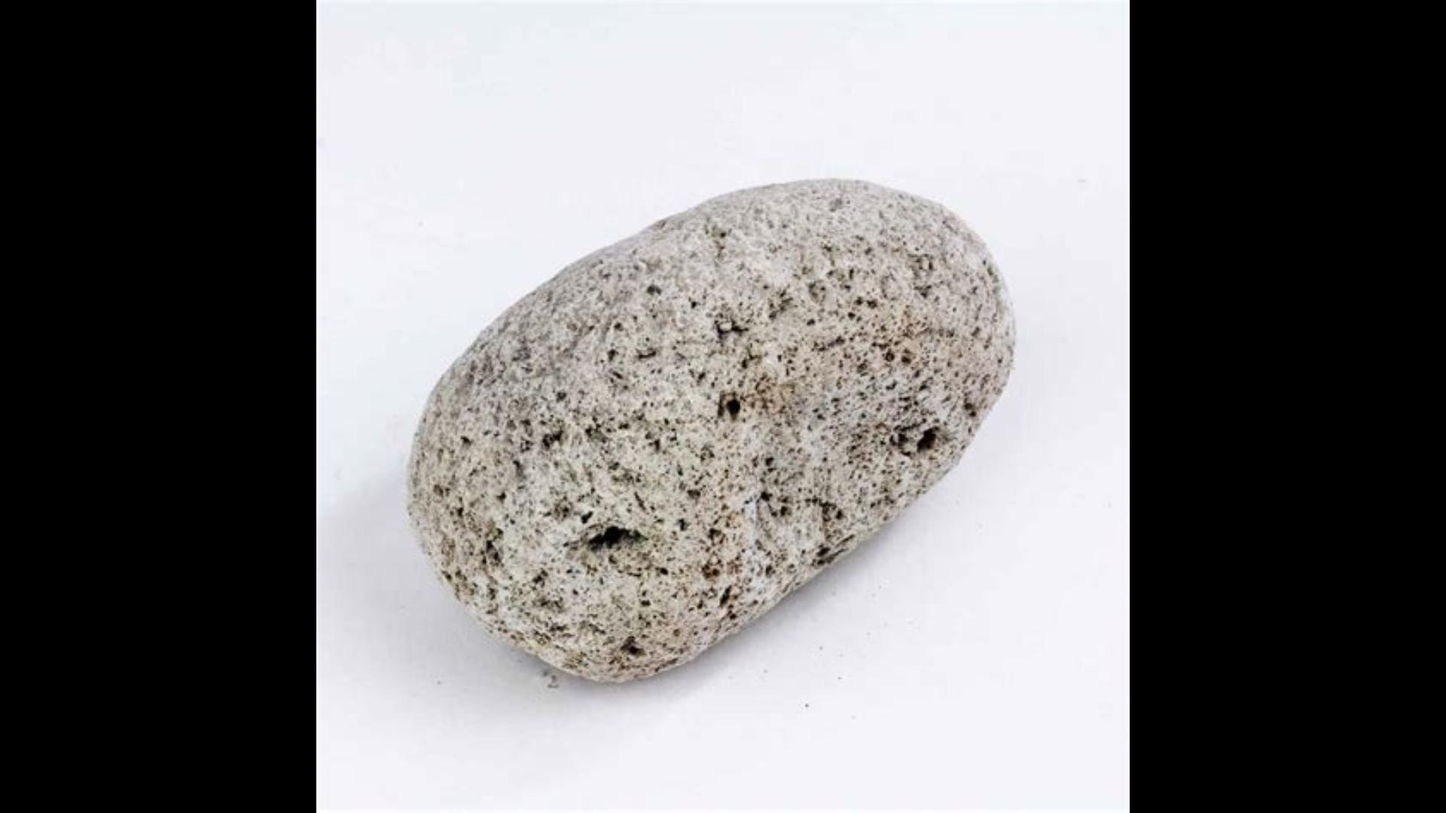rock: (409, 180, 1011, 681)
